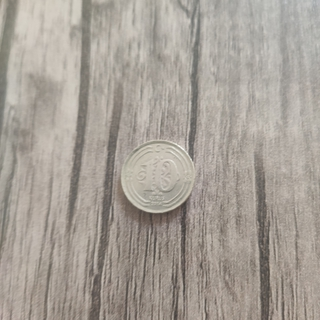10KURUS: (119, 139, 198, 215)
